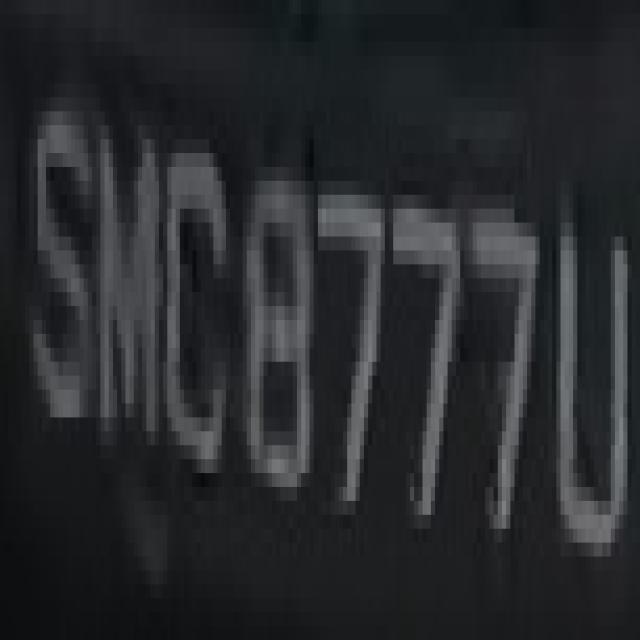7: (310, 139, 398, 557), (464, 181, 540, 570), (398, 167, 468, 584)
8: (242, 153, 330, 529)
C: (163, 69, 239, 501)
M: (88, 97, 163, 487)
S: (25, 28, 92, 459)
U: (544, 195, 632, 626)
